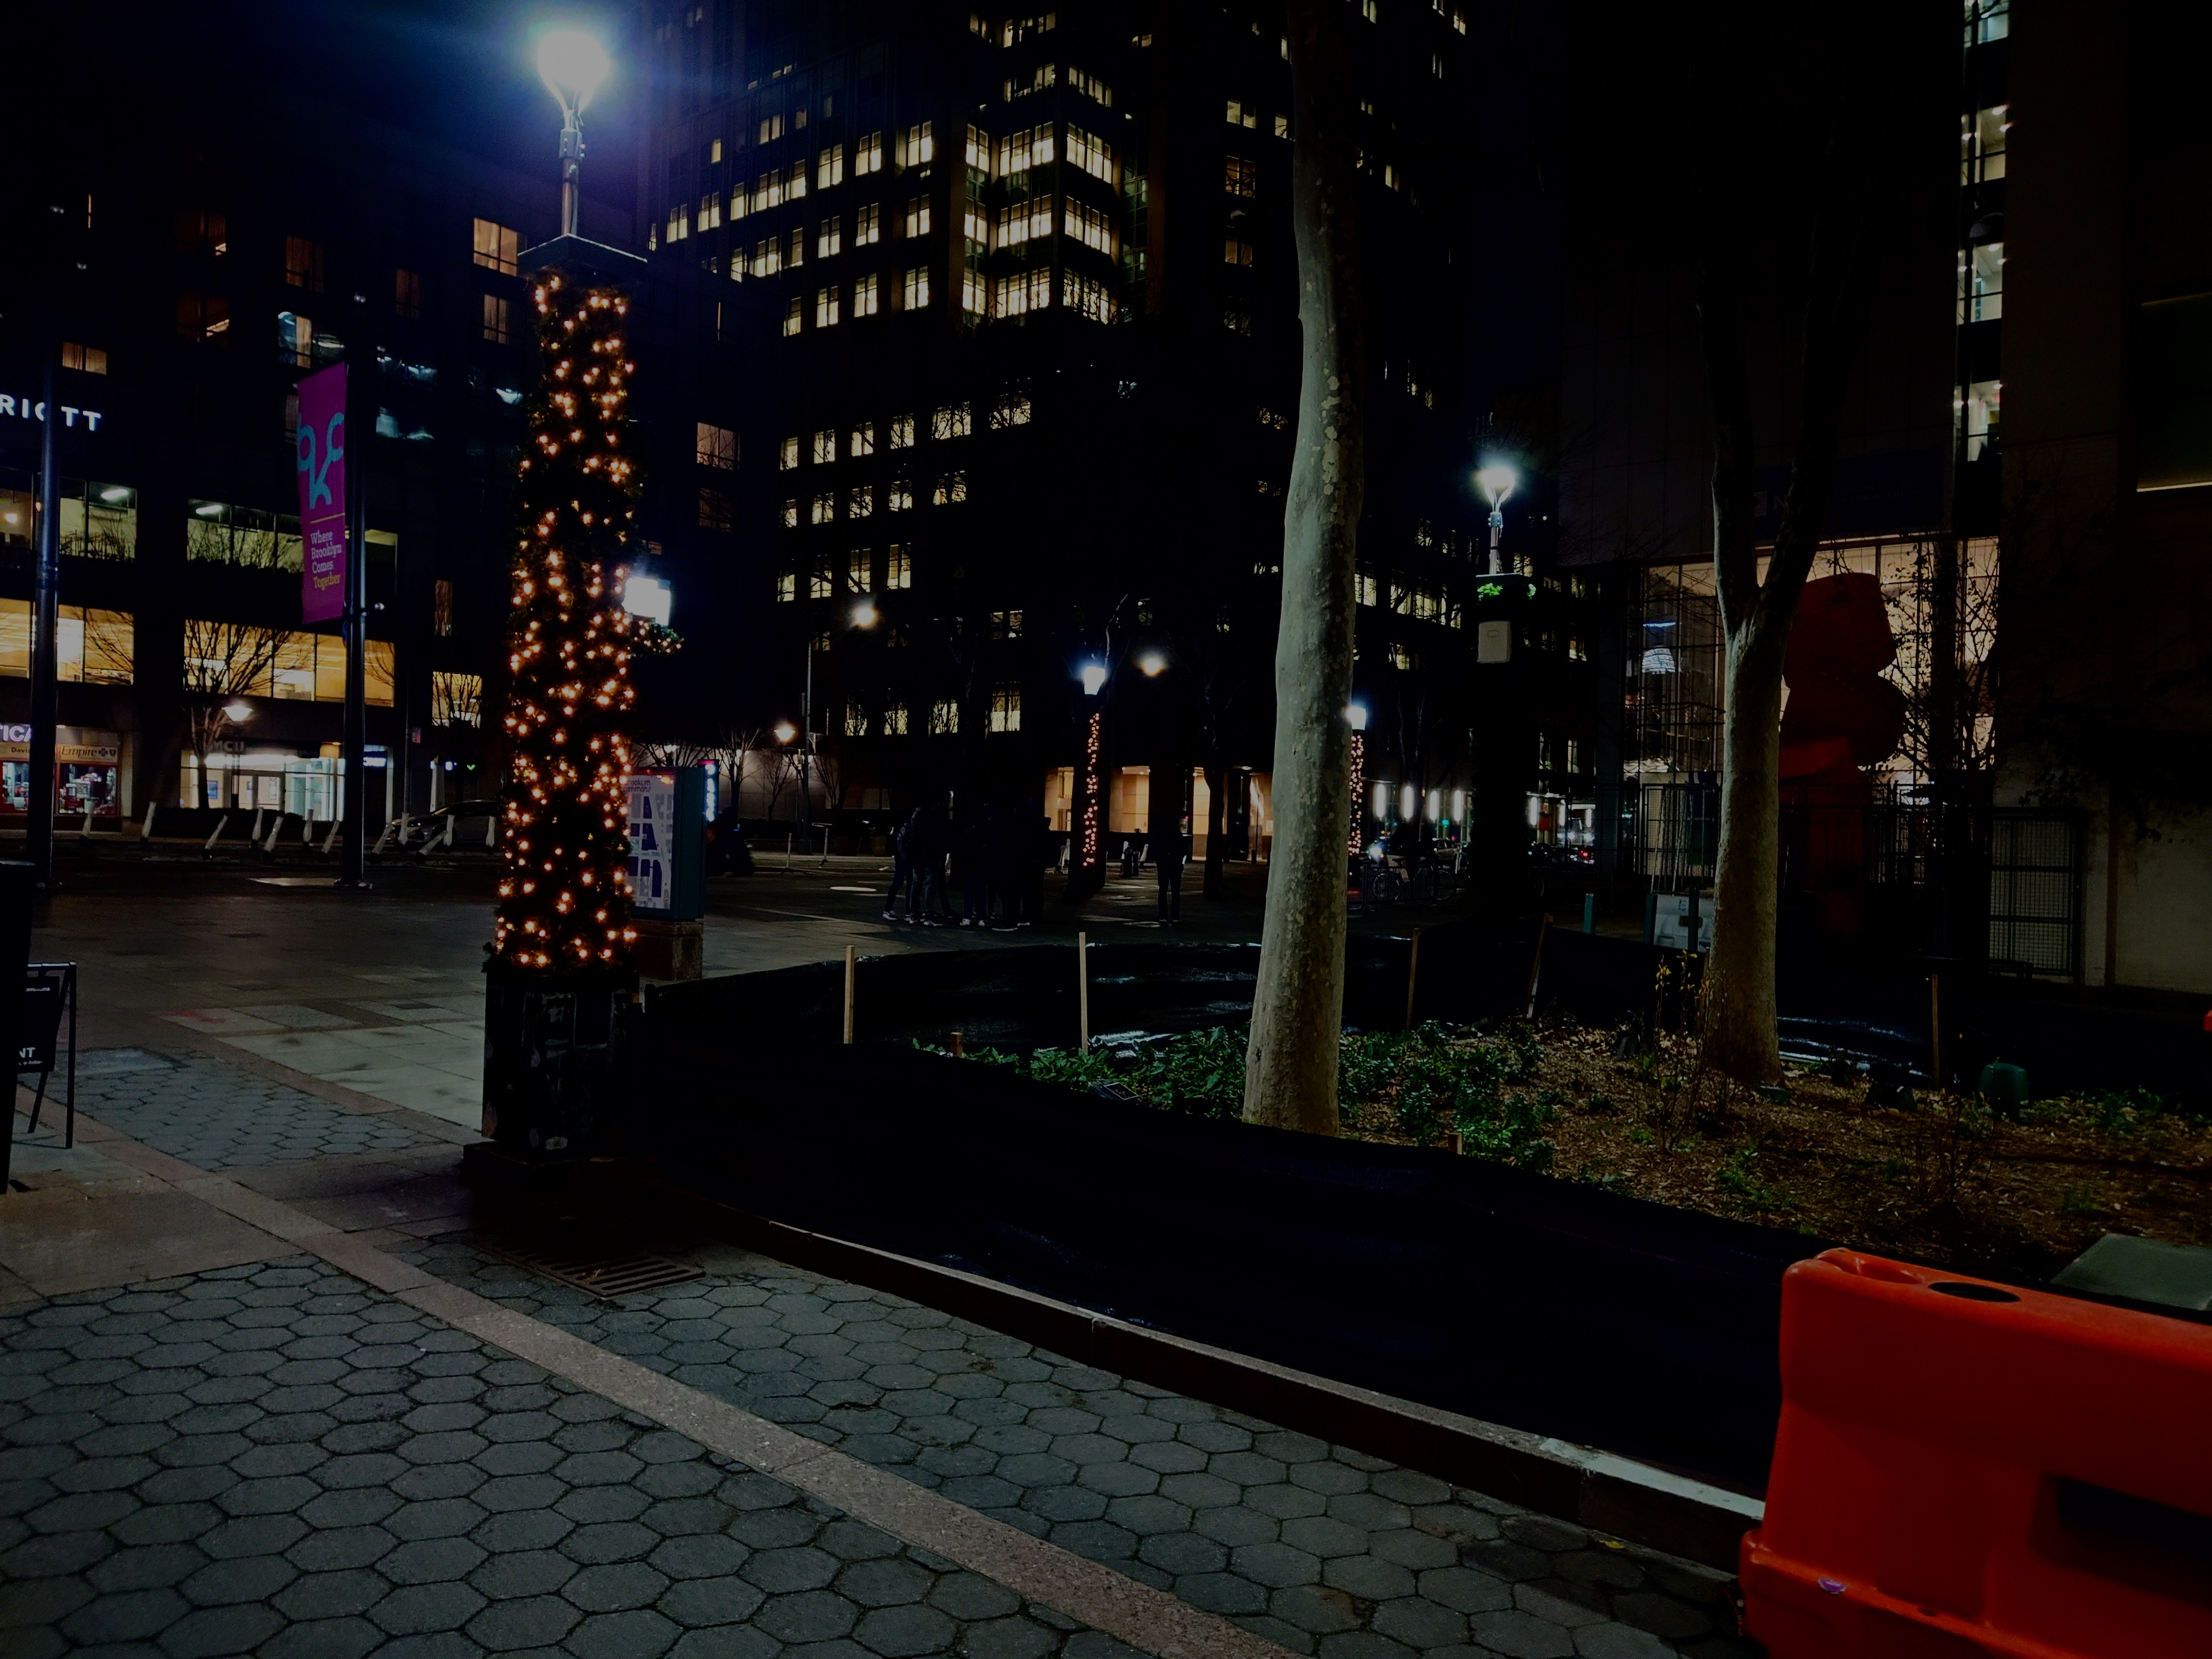car: (396, 799, 501, 851)
person: (882, 805, 920, 925), (1157, 821, 1187, 927)
